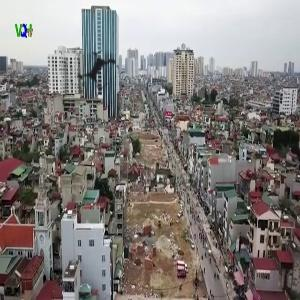drone: (60, 34, 141, 115)
